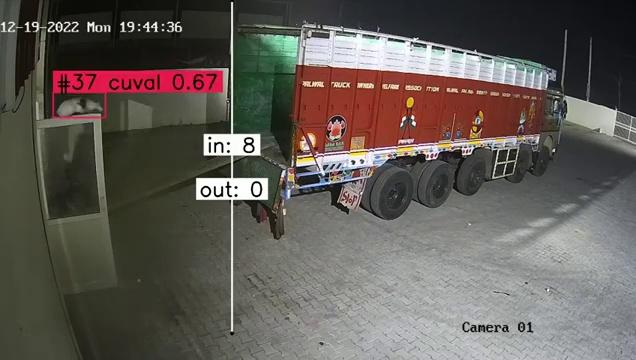karung: (55, 95, 104, 116)
